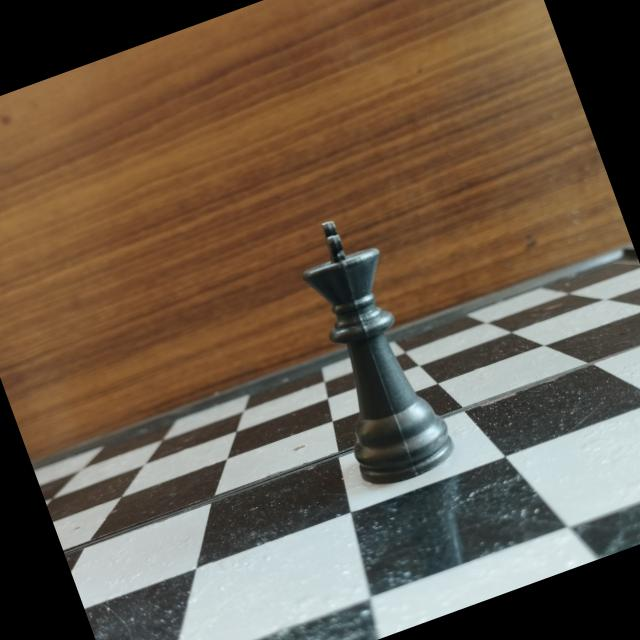Black King: (267, 192, 473, 498)
